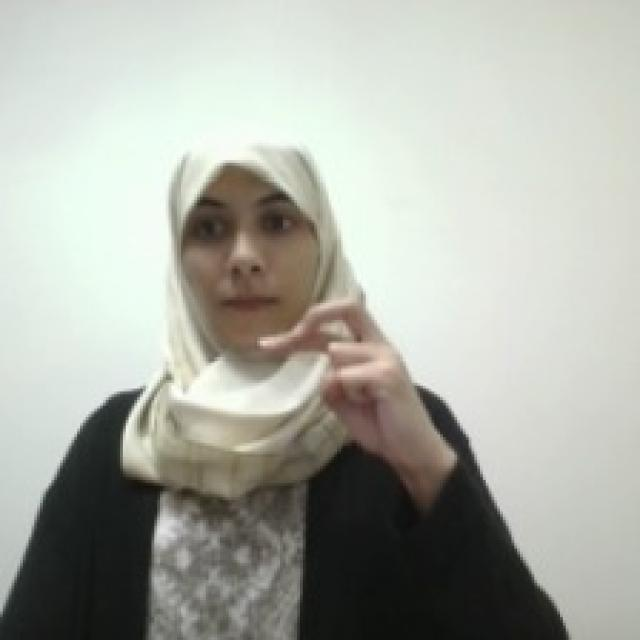sunday: (254, 294, 422, 445)
